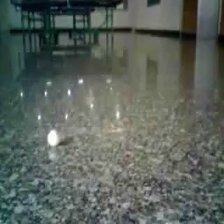w: (46, 128, 61, 148)
